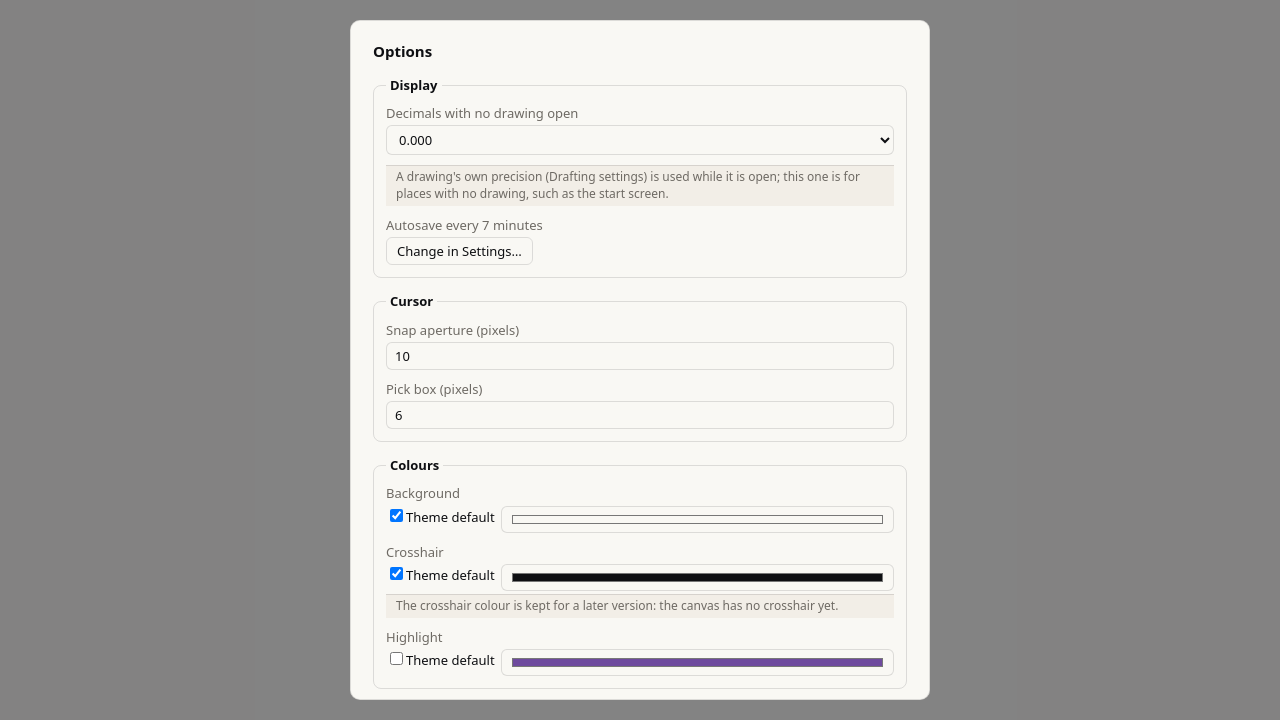
Test: a pixel size outside 1 to 50 is refused before anything is saved
Expected: the dropdown labelled "Decimals with no drawing open" is shown, 386,125 -> 894,155
Replace the text in the number field labelled "Pick box (pixels)" with "60" at (640, 415), box 386,401 -> 894,429
(page scrolled)
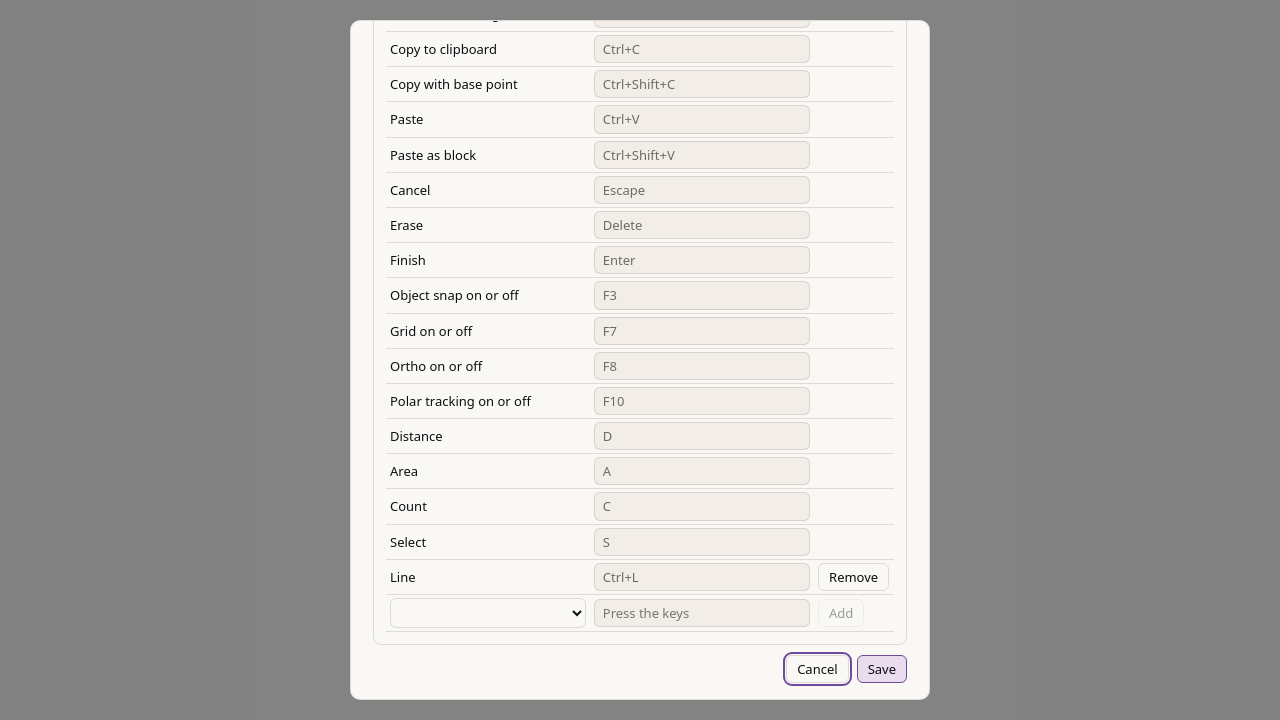
Click the button "Save" at (882, 669), box 857,655 -> 907,683
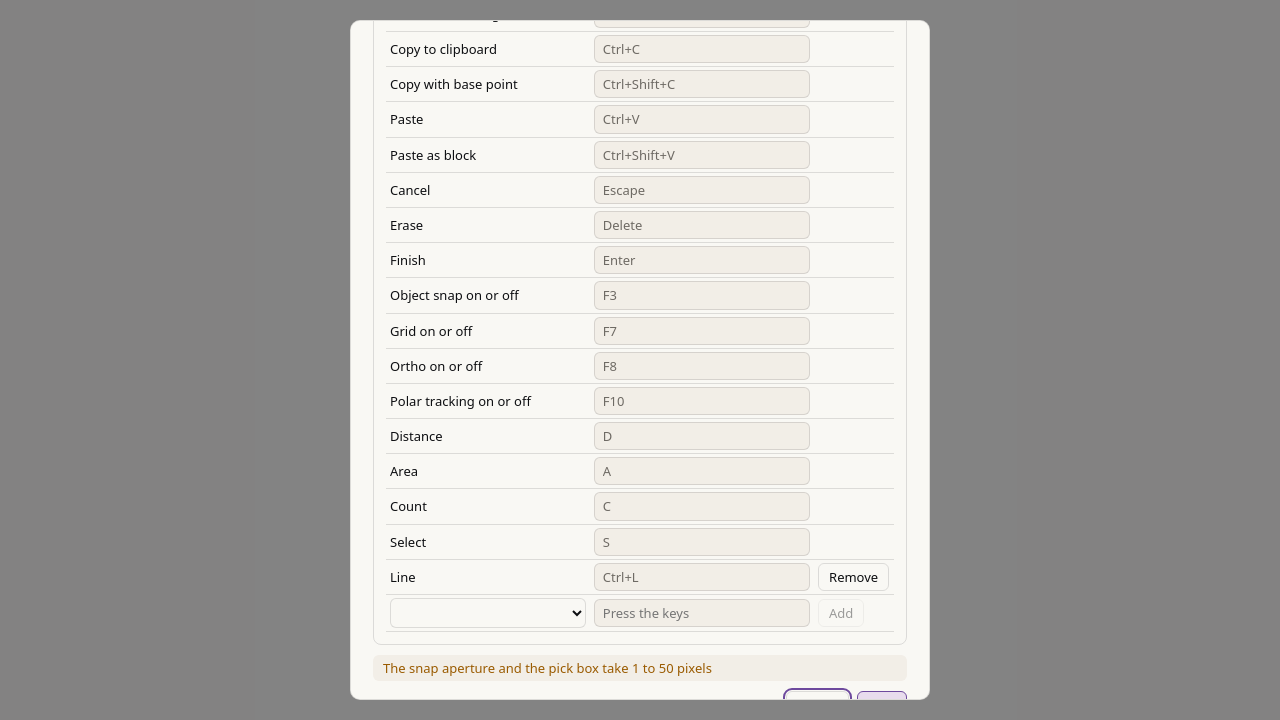
Now the message reads "The snap aperture and the pick box take 1 to 50 pixels", box 383,659 -> 712,677
